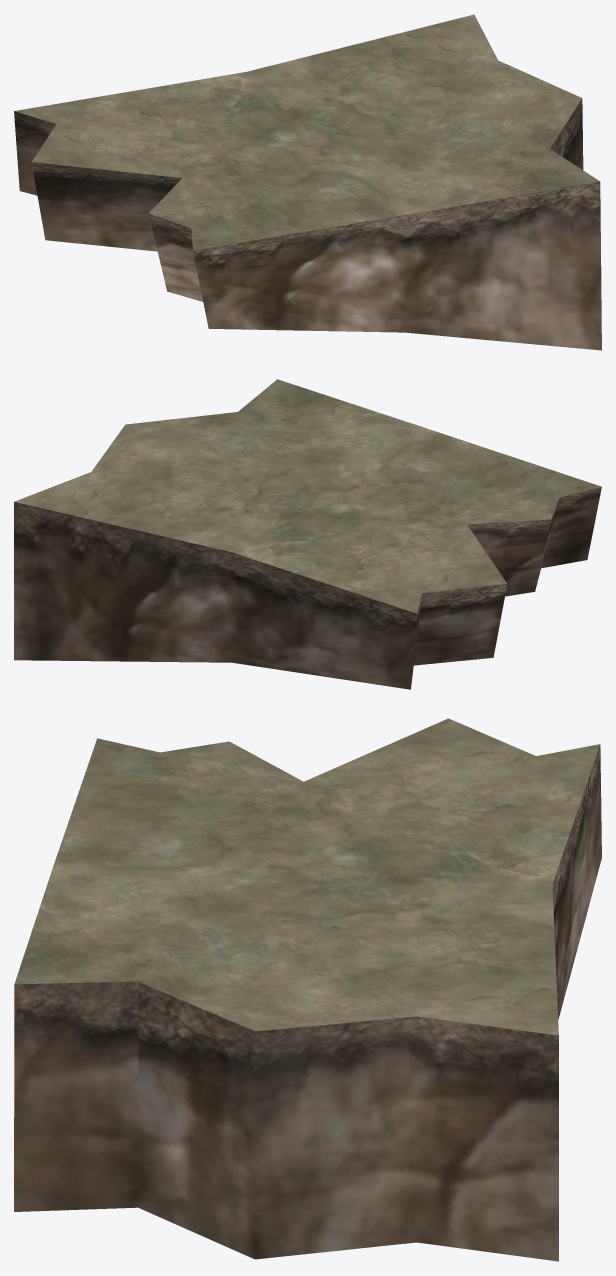
Rendered from ANIMATEDINSTANCES_ROCKFALL_600__AI.fbx.
3 renders of one model, top to bottom at view 1: azimuth 30°, elevation 25°; view 2: azimuth 150°, elevation 25°; view 3: azimuth 270°, elevation 25°, orthographic. The views are drawn at different scales.
Parts seen in each view (by area): view 1: ANIMATEDINSTANCES_ROCKFALL_600__AI; view 2: ANIMATEDINSTANCES_ROCKFALL_600__AI; view 3: ANIMATEDINSTANCES_ROCKFALL_600__AI.
Boxes of the visible parts, left/top/right/bottom form: ANIMATEDINSTANCES_ROCKFALL_600__AI: left=14, top=14, right=601, bottom=350; ANIMATEDINSTANCES_ROCKFALL_600__AI: left=14, top=379, right=601, bottom=689; ANIMATEDINSTANCES_ROCKFALL_600__AI: left=14, top=718, right=601, bottom=1261.
Bounding box in the file's own units: 25956 × 8675 × 20385.
2 materials, 2 textured.
